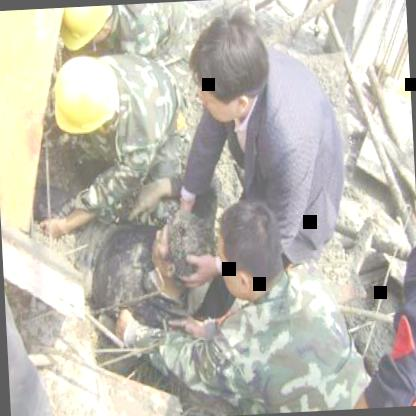head: (180, 6, 280, 132), (206, 201, 294, 302), (149, 208, 218, 298)
helmet: (51, 54, 126, 149), (49, 4, 130, 66)
